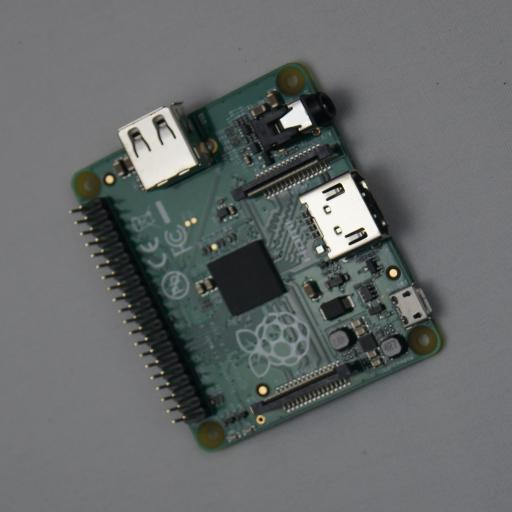Raspberry Pi A-: (72, 62, 446, 452)
